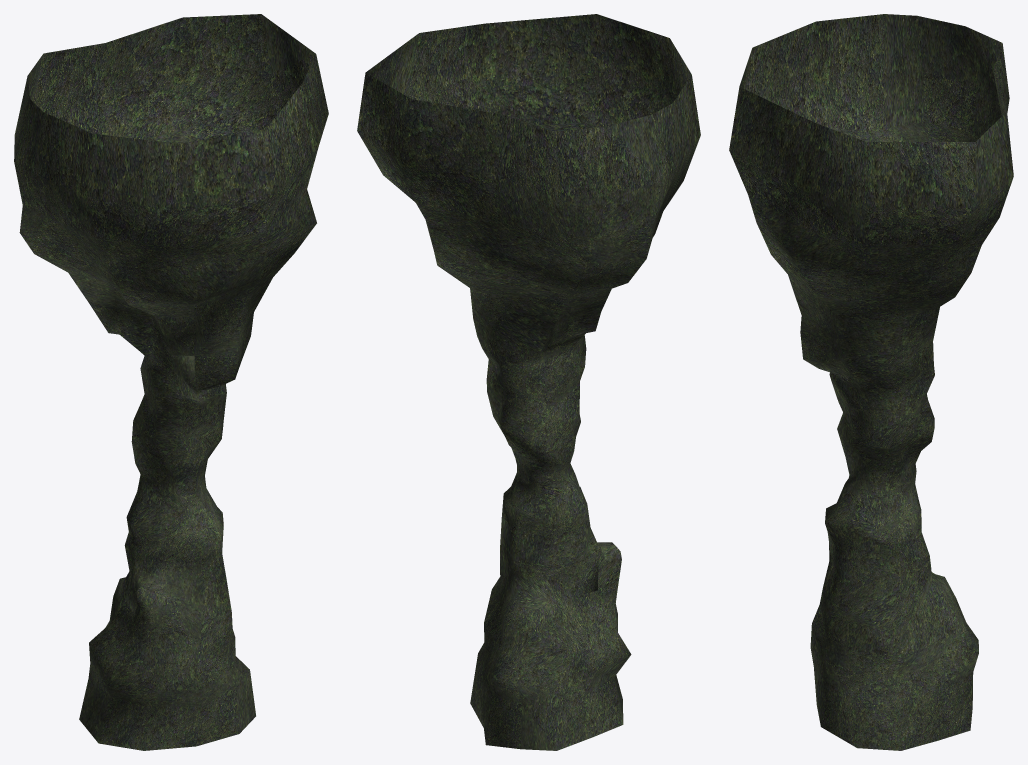
Rendered from rock_pillar_05.fbx.
The picture shows the model from 3 angles, left to right: view 1: azimuth 30°, elevation 25°; view 2: azimuth 150°, elevation 25°; view 3: azimuth 270°, elevation 25°; orthographic projection.
Visible parts, largest first — view 1: rock_pillar_05; view 2: rock_pillar_05; view 3: rock_pillar_05.
Boxes of the visible parts, x1,y1,x2,y2 form: rock_pillar_05: (14, 14, 328, 750); rock_pillar_05: (357, 14, 700, 750); rock_pillar_05: (729, 14, 1013, 750).
Bounding box in the file's own units: 56.77 × 124 × 49.51.
